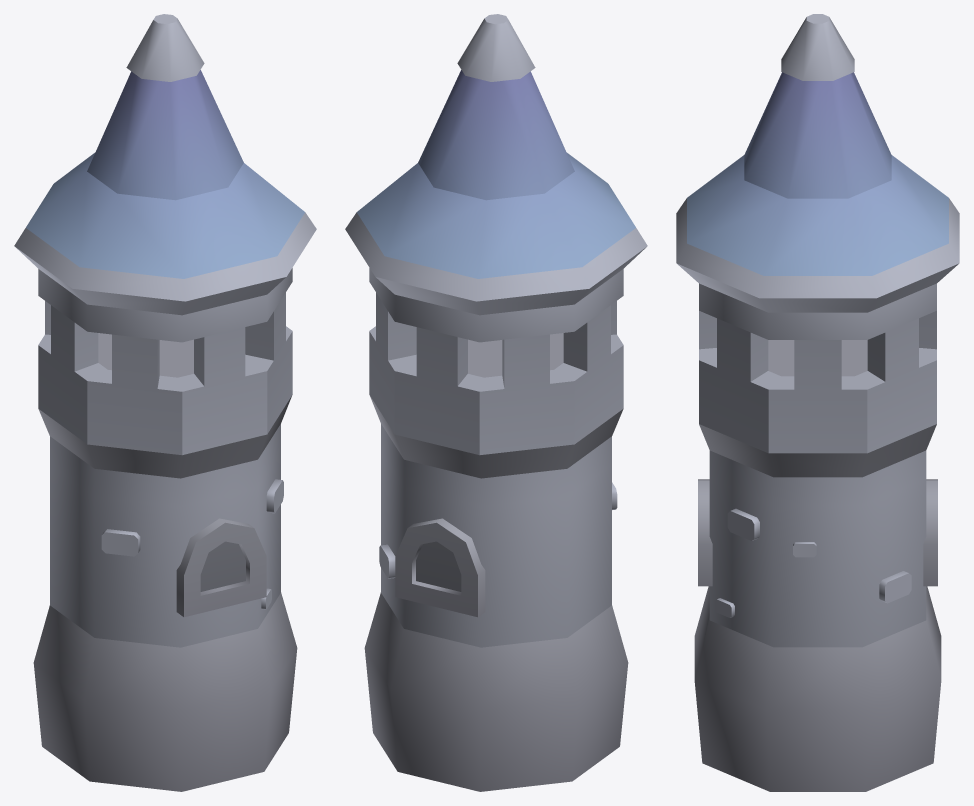
File: tower-complete-large.glb
3 views of the same model, side by side, from view 1: azimuth 30°, elevation 25°; view 2: azimuth 150°, elevation 25°; view 3: azimuth 270°, elevation 25° (orthographic).
Parts seen in each view (by area): view 1: tower-complete-large; view 2: tower-complete-large; view 3: tower-complete-large.
Boxes of the visible parts, <box> form: tower-complete-large: <box>14,14,316,791</box>; tower-complete-large: <box>345,14,647,791</box>; tower-complete-large: <box>676,14,959,791</box>.
Bounding box in the file's own units: 3.63 × 10.22 × 3.63.
